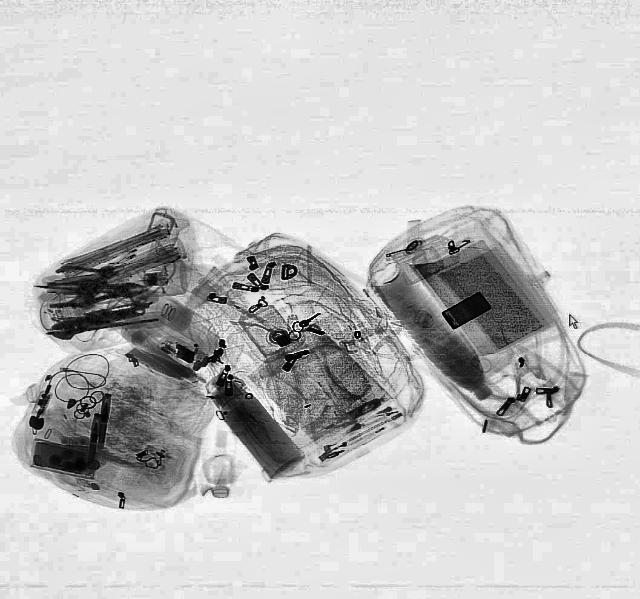Pliers: (51, 254, 126, 294), (52, 276, 142, 308)
Wrench: (46, 296, 148, 341)
